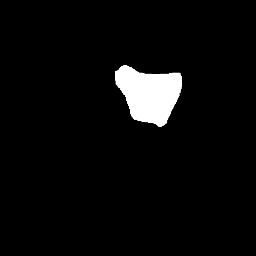mass: (118, 68, 177, 124)
